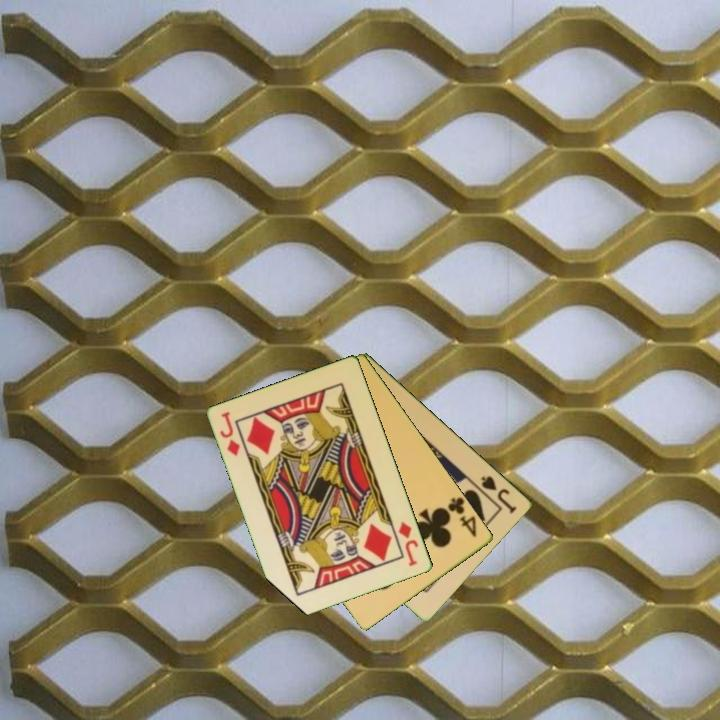4c: (444, 493, 480, 541)
Jd: (217, 408, 244, 459), (395, 518, 421, 569)
Js: (478, 472, 520, 516)
